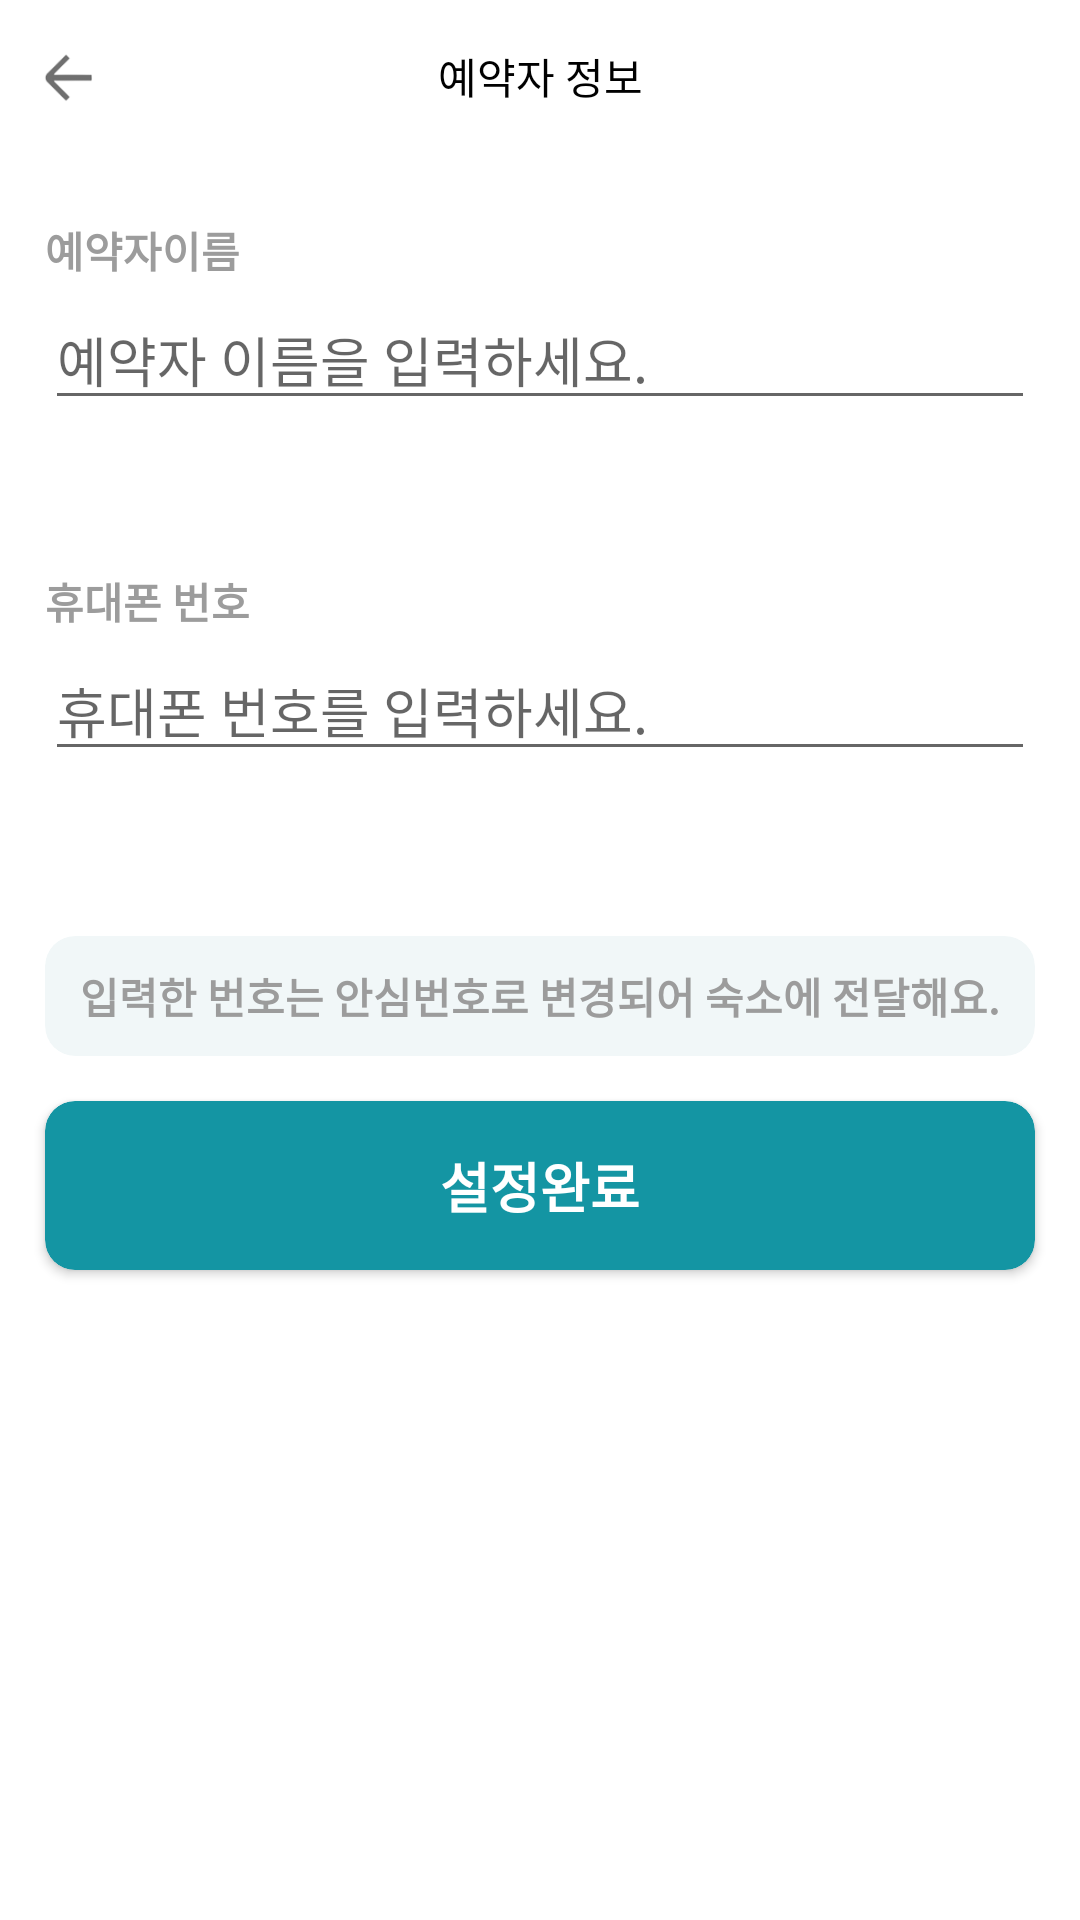

Icons on this 1080w x 1920h Android screen, each with its box as {"x1": x1, "y1": y1, "x2": x2, "y2": y2}:
back: {"x1": 45, "y1": 55, "x2": 92, "y2": 101}
